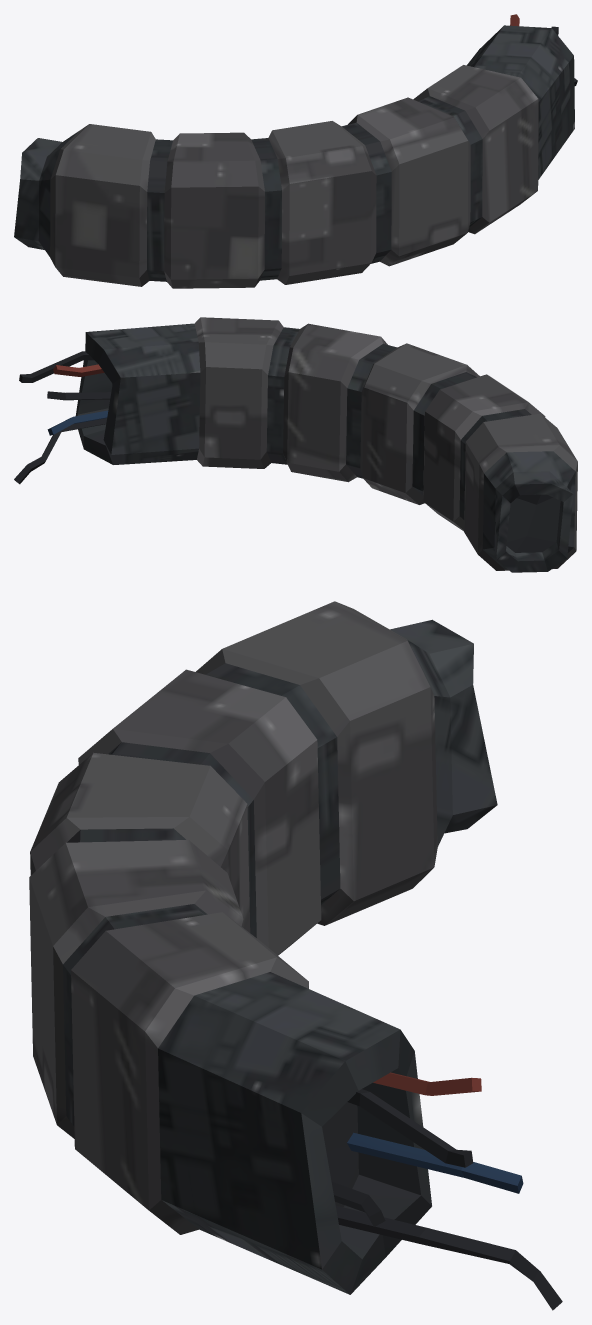
The model's file is worlds_SM_Prop_Scav_Scrap_08.gltf.
3 views of the same model, one above another, from view 1: azimuth 30°, elevation 25°; view 2: azimuth 150°, elevation 25°; view 3: azimuth 270°, elevation 25° (orthographic). The views are drawn at different scales.
Parts seen in each view (by area): view 1: SM_Prop_Scav_Scrap_08; view 2: SM_Prop_Scav_Scrap_08; view 3: SM_Prop_Scav_Scrap_08.
Part boxes in pixels (x1=…): SM_Prop_Scav_Scrap_08: x1=14, y1=14, x2=577, y2=288; SM_Prop_Scav_Scrap_08: x1=14, y1=317, x2=577, y2=572; SM_Prop_Scav_Scrap_08: x1=29, y1=601, x2=562, y2=1310.
Size of the model in its own units: 13.14 by 2.96 by 5.67.
1 material, 1 textured.
